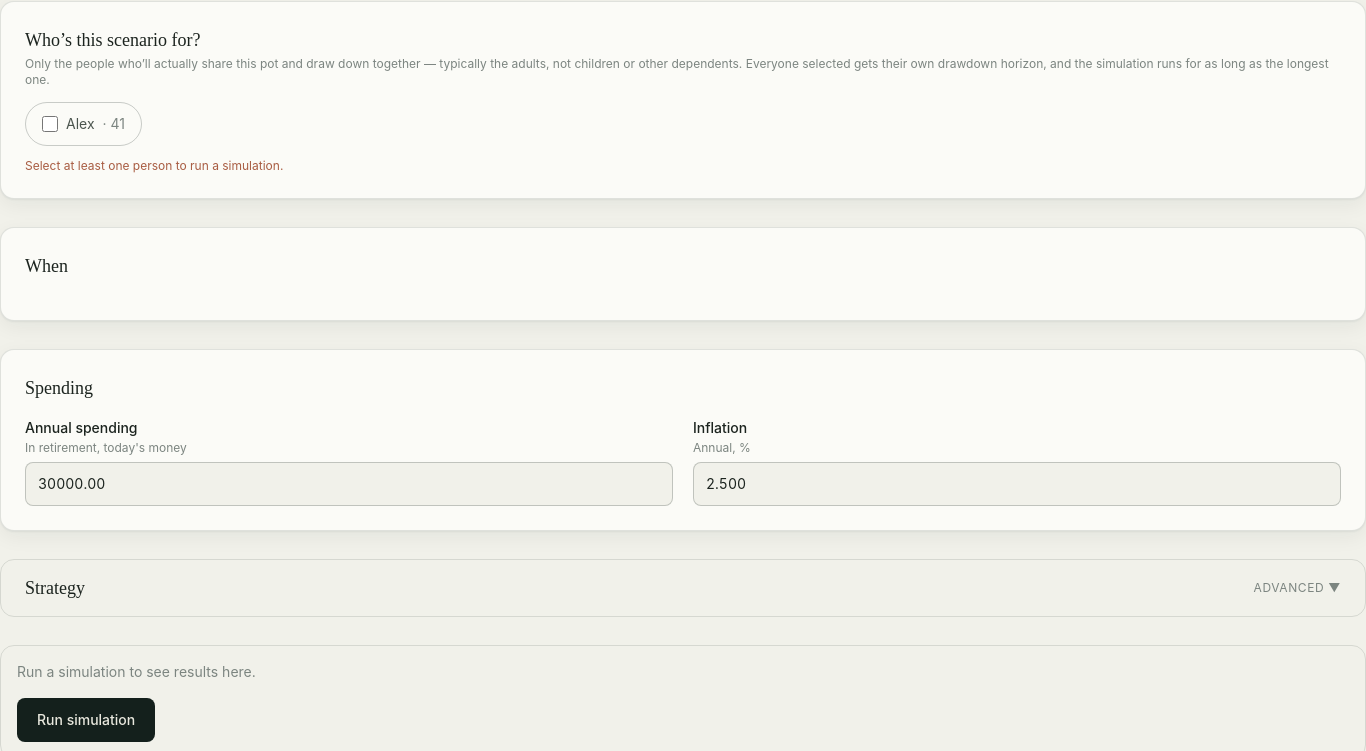
Test: ScenarioEditorForm › one-off events › hides the whole section until at least one person is selected
This screenshot has width=1366, height=751.
(page scrolled)
Click the button "Strategy Advanced ▼": (55, 588) [1,560,1365,616]
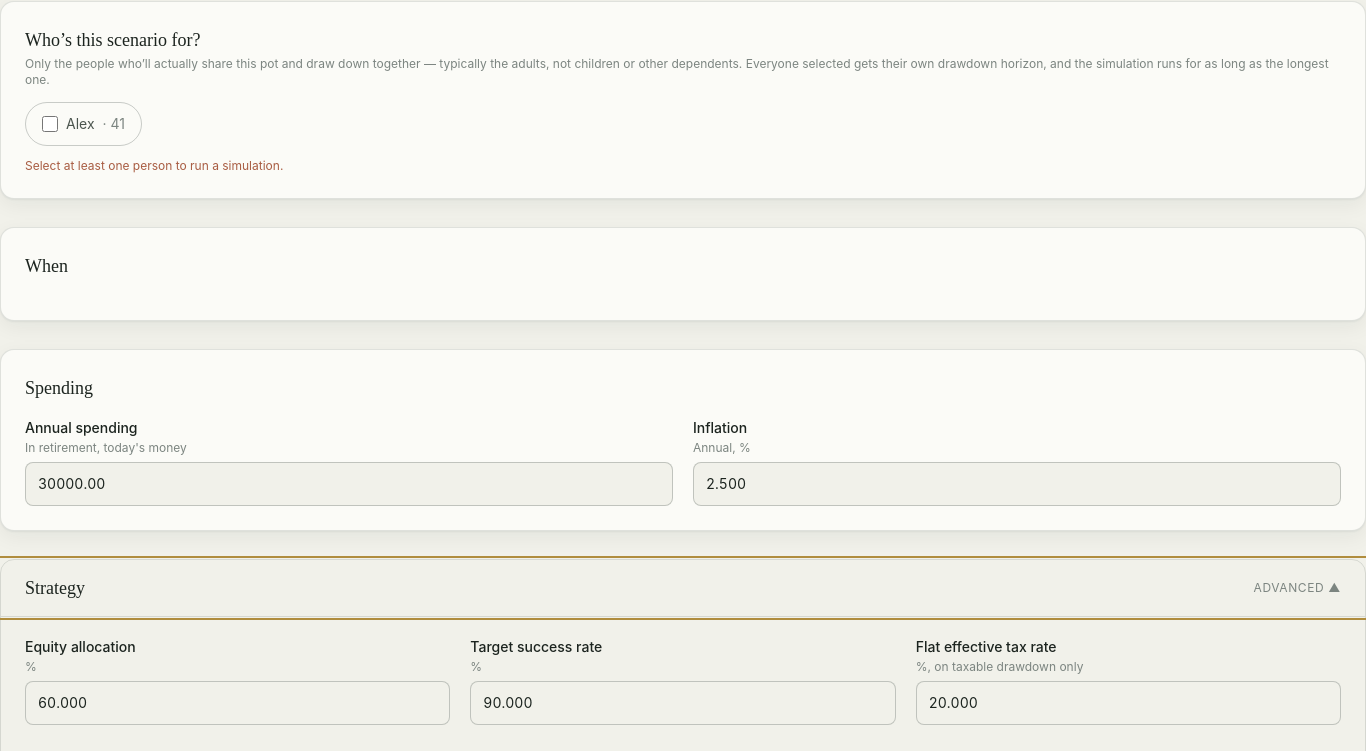
Expected: the text "One-off events" is not shown
Click the checkbox labelled "Alex · 41": (50, 124) [42,116,58,132]
(page scrolled)
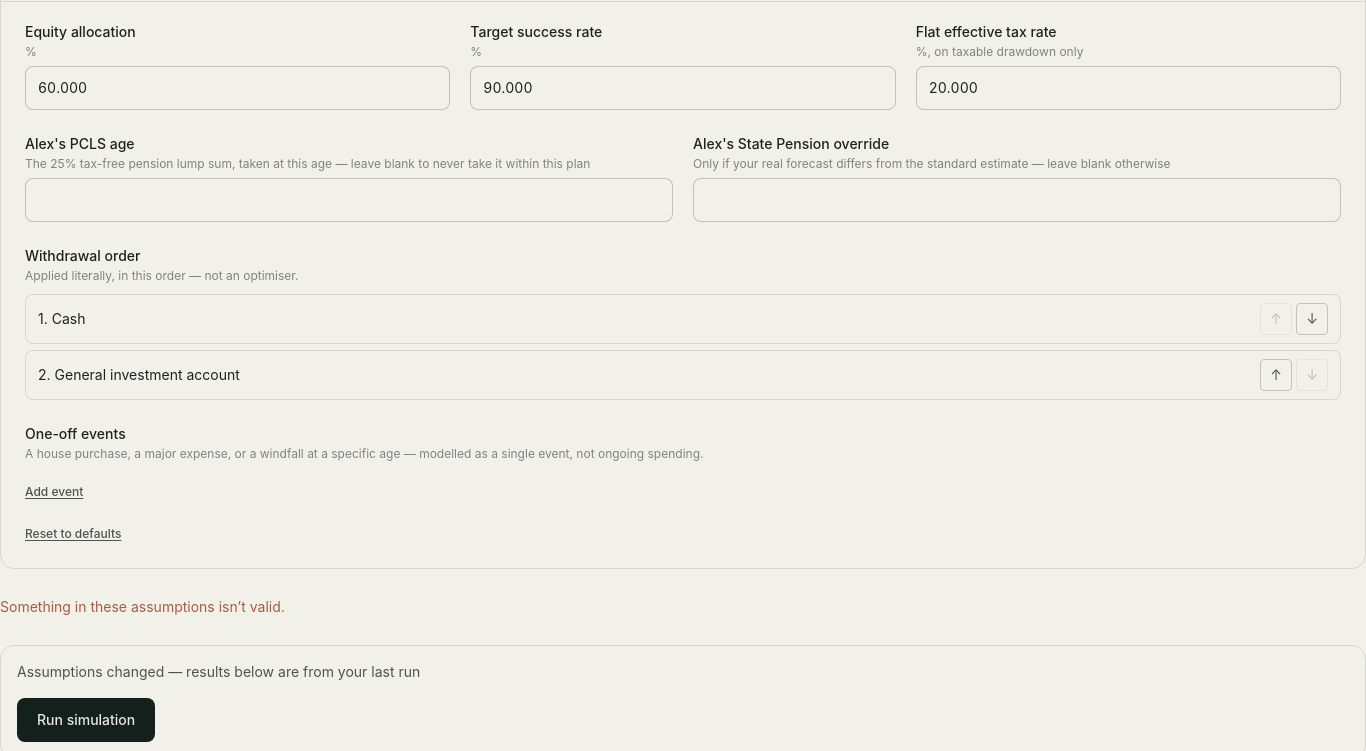
Now the text "One-off events" is shown, box [25,425,126,442]
